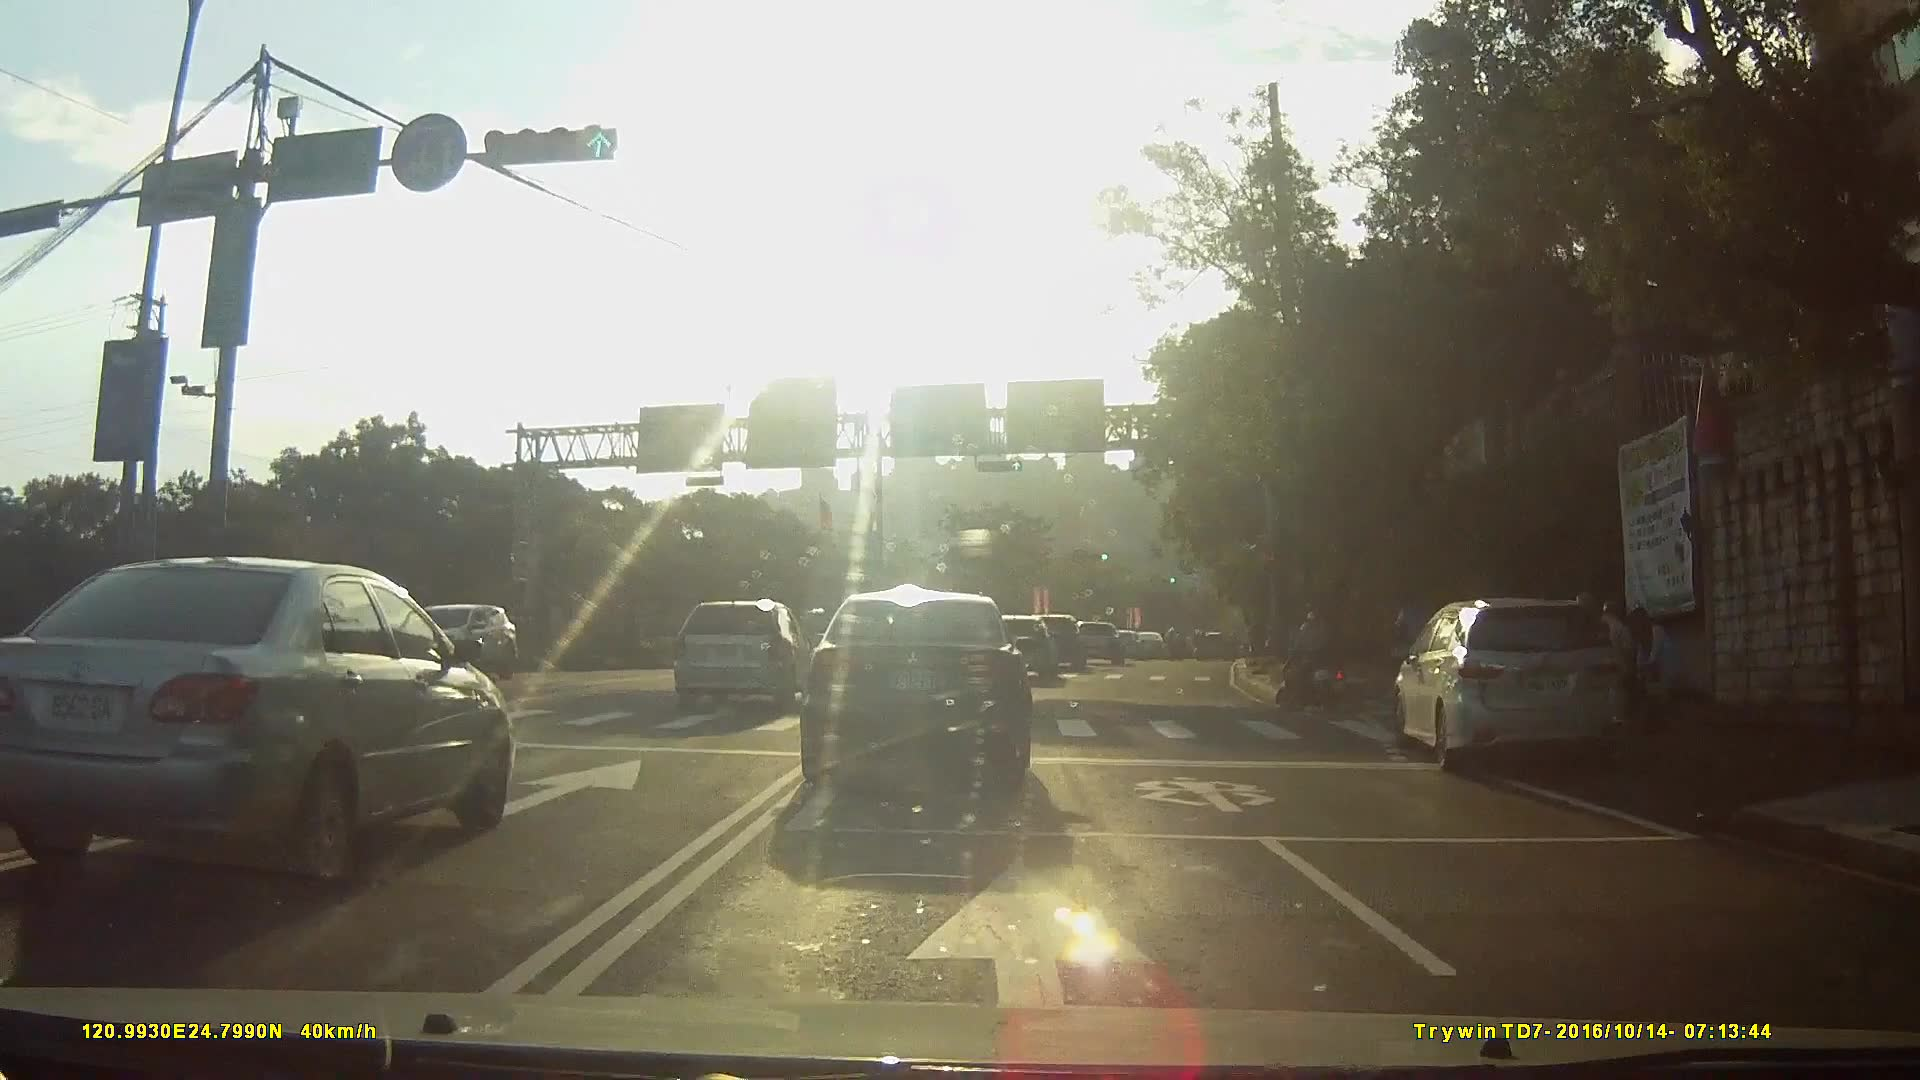pedestrian: (1626, 604, 1685, 709)
rider: (1273, 610, 1356, 713)
vehicle: (0, 559, 528, 895), (791, 596, 1059, 815), (1383, 599, 1652, 794), (150, 582, 363, 782), (682, 600, 831, 716), (376, 595, 532, 686), (1003, 619, 1077, 689), (1037, 616, 1099, 674), (1081, 621, 1134, 667), (1115, 630, 1154, 662), (1140, 632, 1173, 660)
